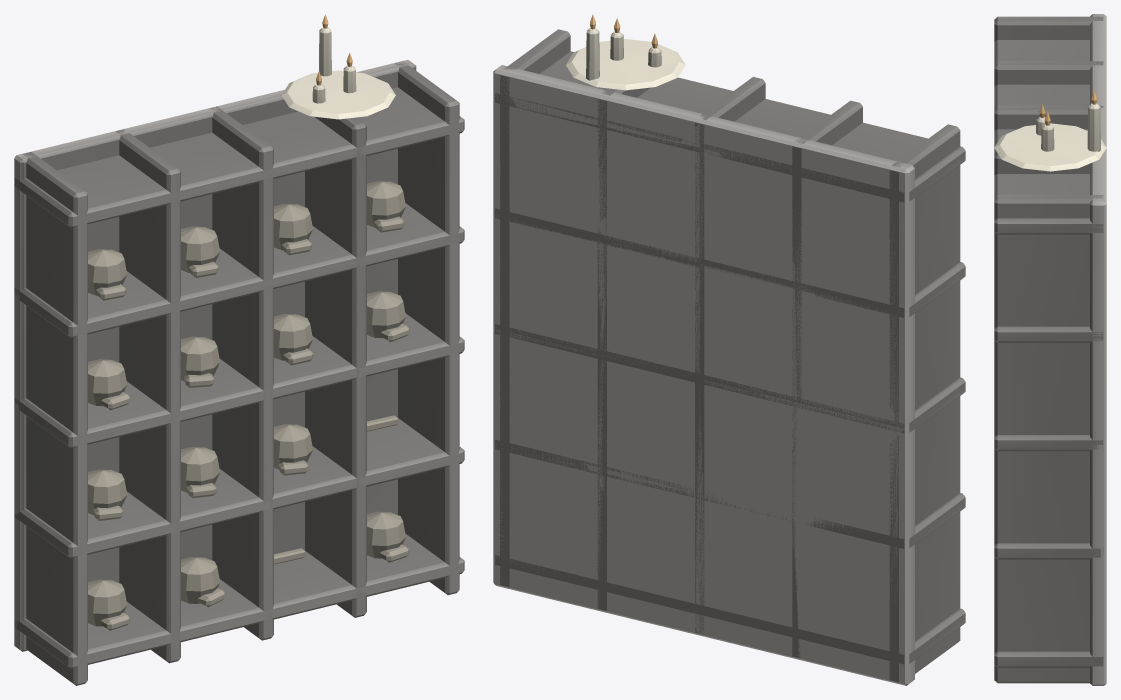
Rendered from dngp_skulls.glb.
3 views of the same model, side by side, from view 1: azimuth 30°, elevation 25°; view 2: azimuth 150°, elevation 25°; view 3: azimuth 270°, elevation 25° (orthographic). The views are drawn at different scales.
Parts seen in each view (by area): view 1: candle; view 2: candle; view 3: candle.
Part boxes in pixels (x1,y1,x2,y2): candle: [14, 14, 464, 685]; candle: [493, 14, 965, 685]; candle: [994, 14, 1106, 685].
Bounding box in the file's own units: 1.6 × 2.17 × 0.4.
